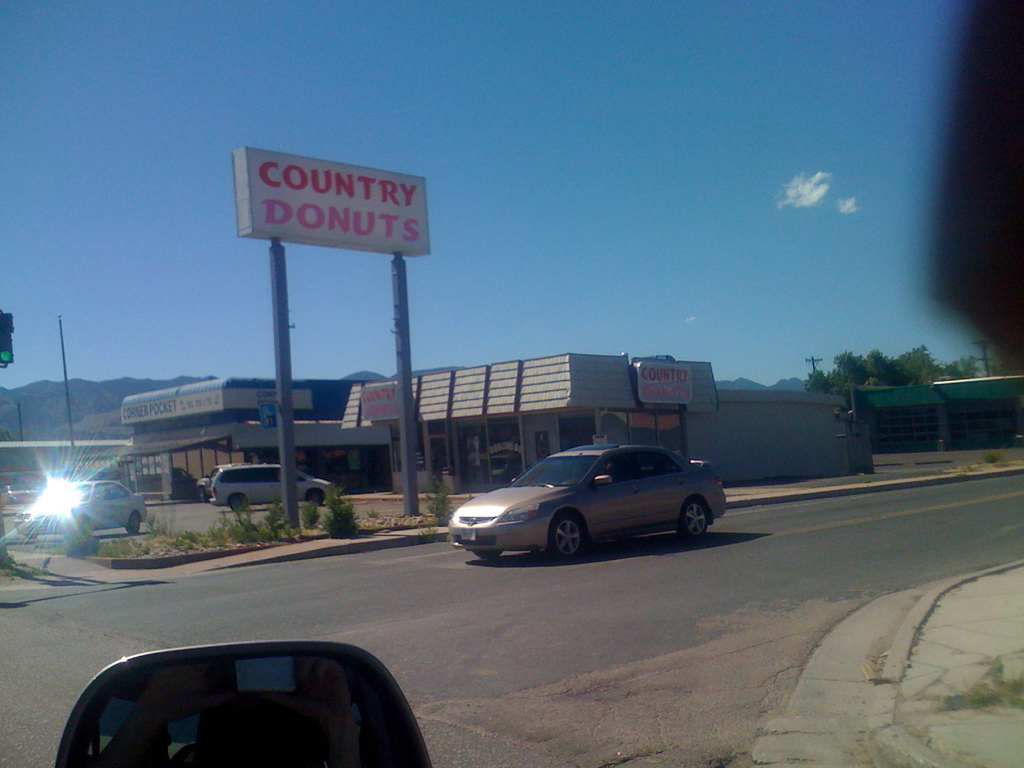Car: (449, 446, 725, 554), (14, 480, 147, 536), (207, 463, 334, 510)
